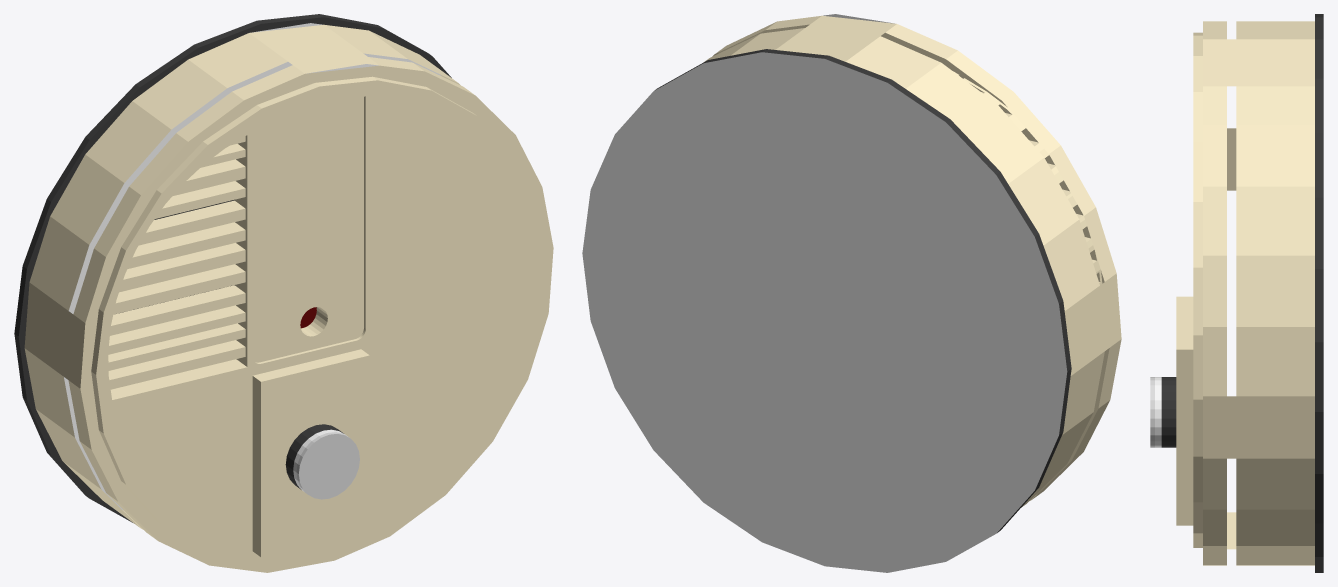
3 views of the same model, side by side, from view 1: azimuth 30°, elevation 25°; view 2: azimuth 150°, elevation 25°; view 3: azimuth 270°, elevation 25° (orthographic).
Visible parts, largest first — view 1: esl electro systems lab model ct; view 2: esl electro systems lab model ct; view 3: esl electro systems lab model ct.
Boxes of the visible parts, x1,y1,x2,y2 form: esl electro systems lab model ct: (14,14,553,572); esl electro systems lab model ct: (582,14,1121,572); esl electro systems lab model ct: (1150,14,1323,572).
Size of the model in its own units: 7.95 by 7.95 by 2.46.
